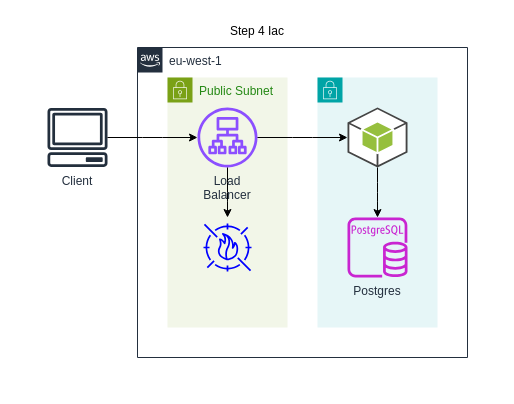
This 514x404 diagram has some shape labels left out. The box of each missing label's shape, as (x1, y1, x2, y2) in pixels:
Application: (346, 106, 408, 168)
Firewall: (196, 216, 258, 278)
Private Subnet: (316, 76, 438, 328)
